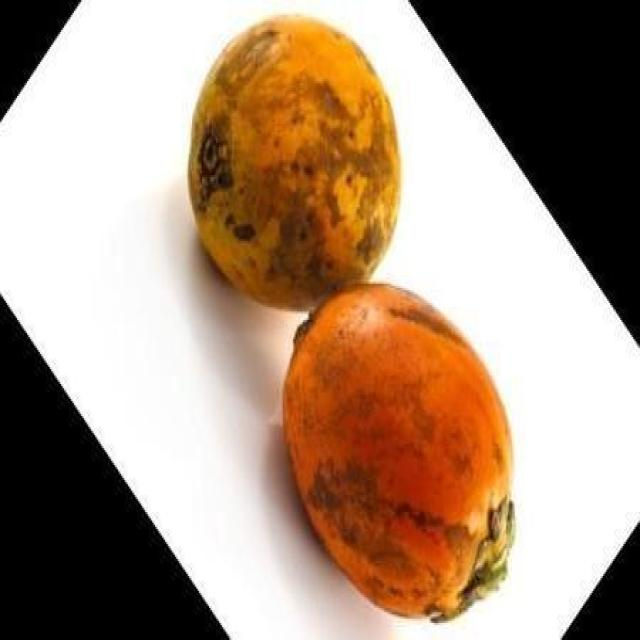good: (283, 286, 518, 623), (185, 15, 402, 316)
